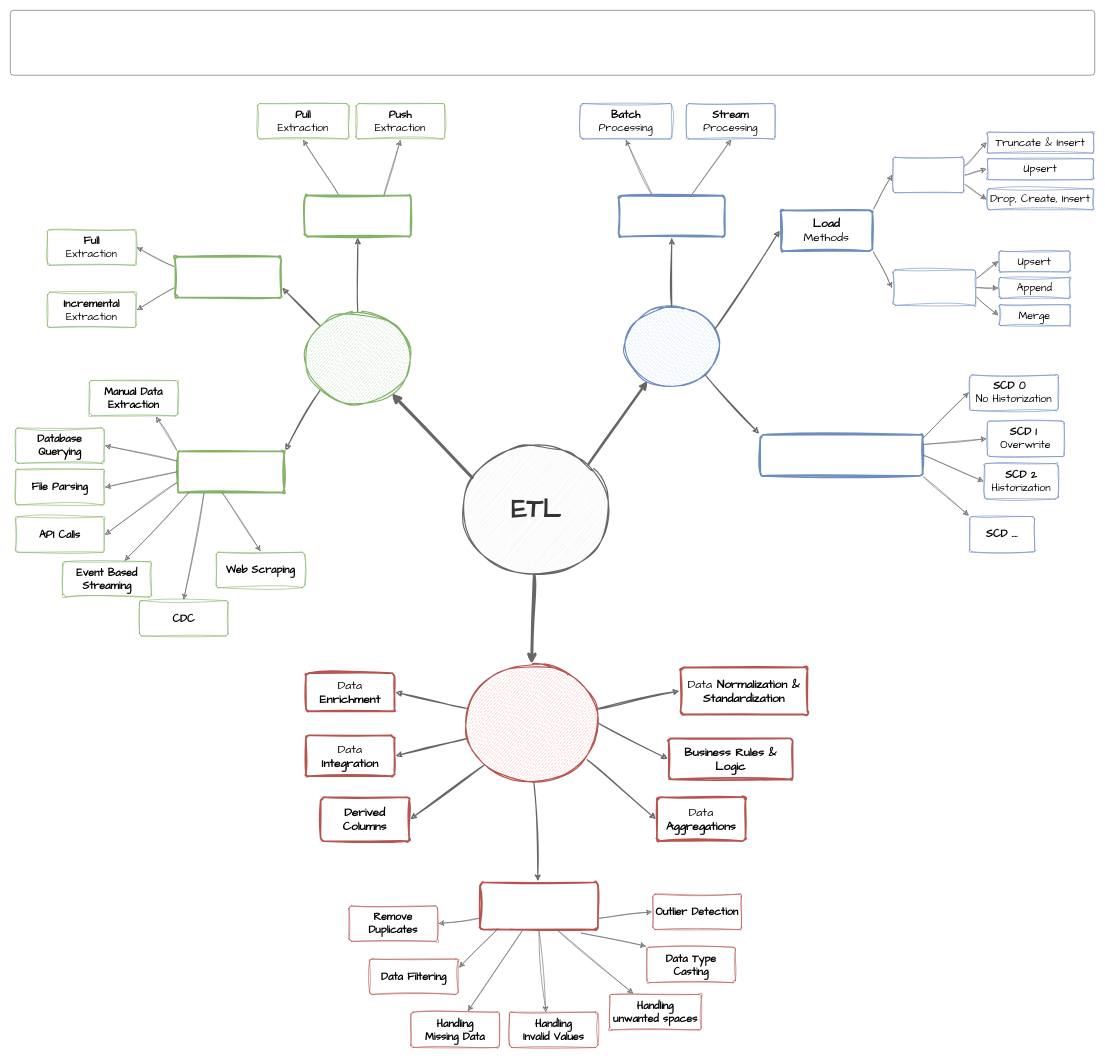
This 1105x1058 diagram has some shape labels left out. Here are the shapes that lost their labels. From the top down, the centre of each, then its label:
At point (552, 42): "ETL Methods".
At point (928, 175): "Full Load".
At point (358, 215): "Extraction methods".
At point (671, 216): "Processing Types".
At point (228, 276): "Extract Types".
At point (934, 287): "Incremental Load".
At point (357, 357): "E xtraction".
At point (671, 346): "L oad".
At point (231, 471): "Extract Techniques".
At point (841, 455): "Slowly Changing Dimensions (SCD)".
At point (531, 722): "T ransformation".
At point (539, 905): "Data Cleansing".
